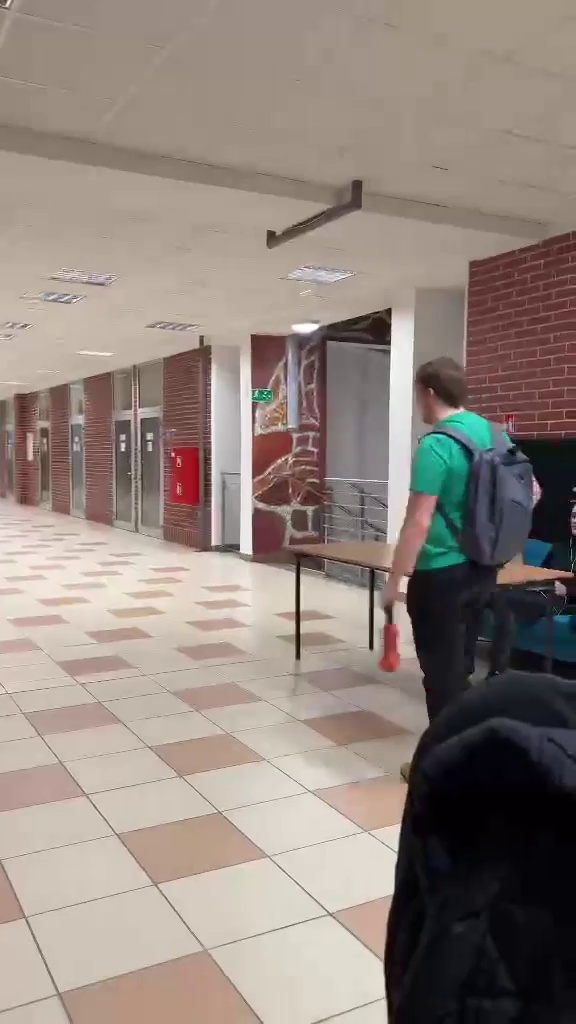no vest: (379, 346, 541, 704)
